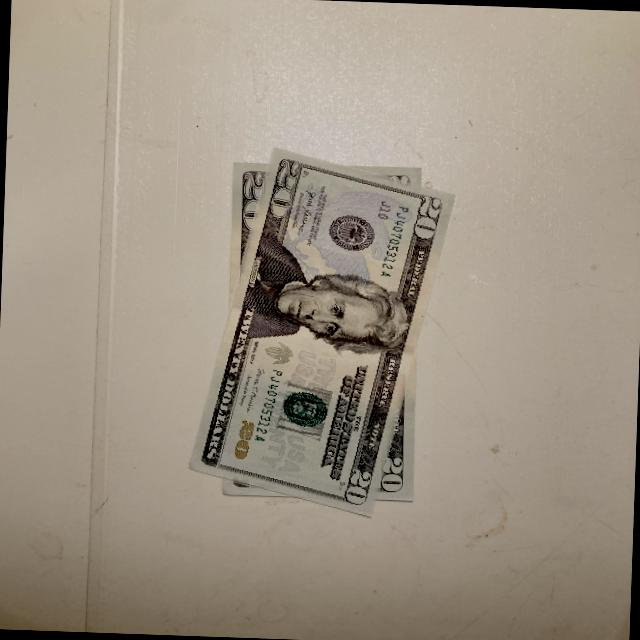twenty: (202, 152, 442, 512)
